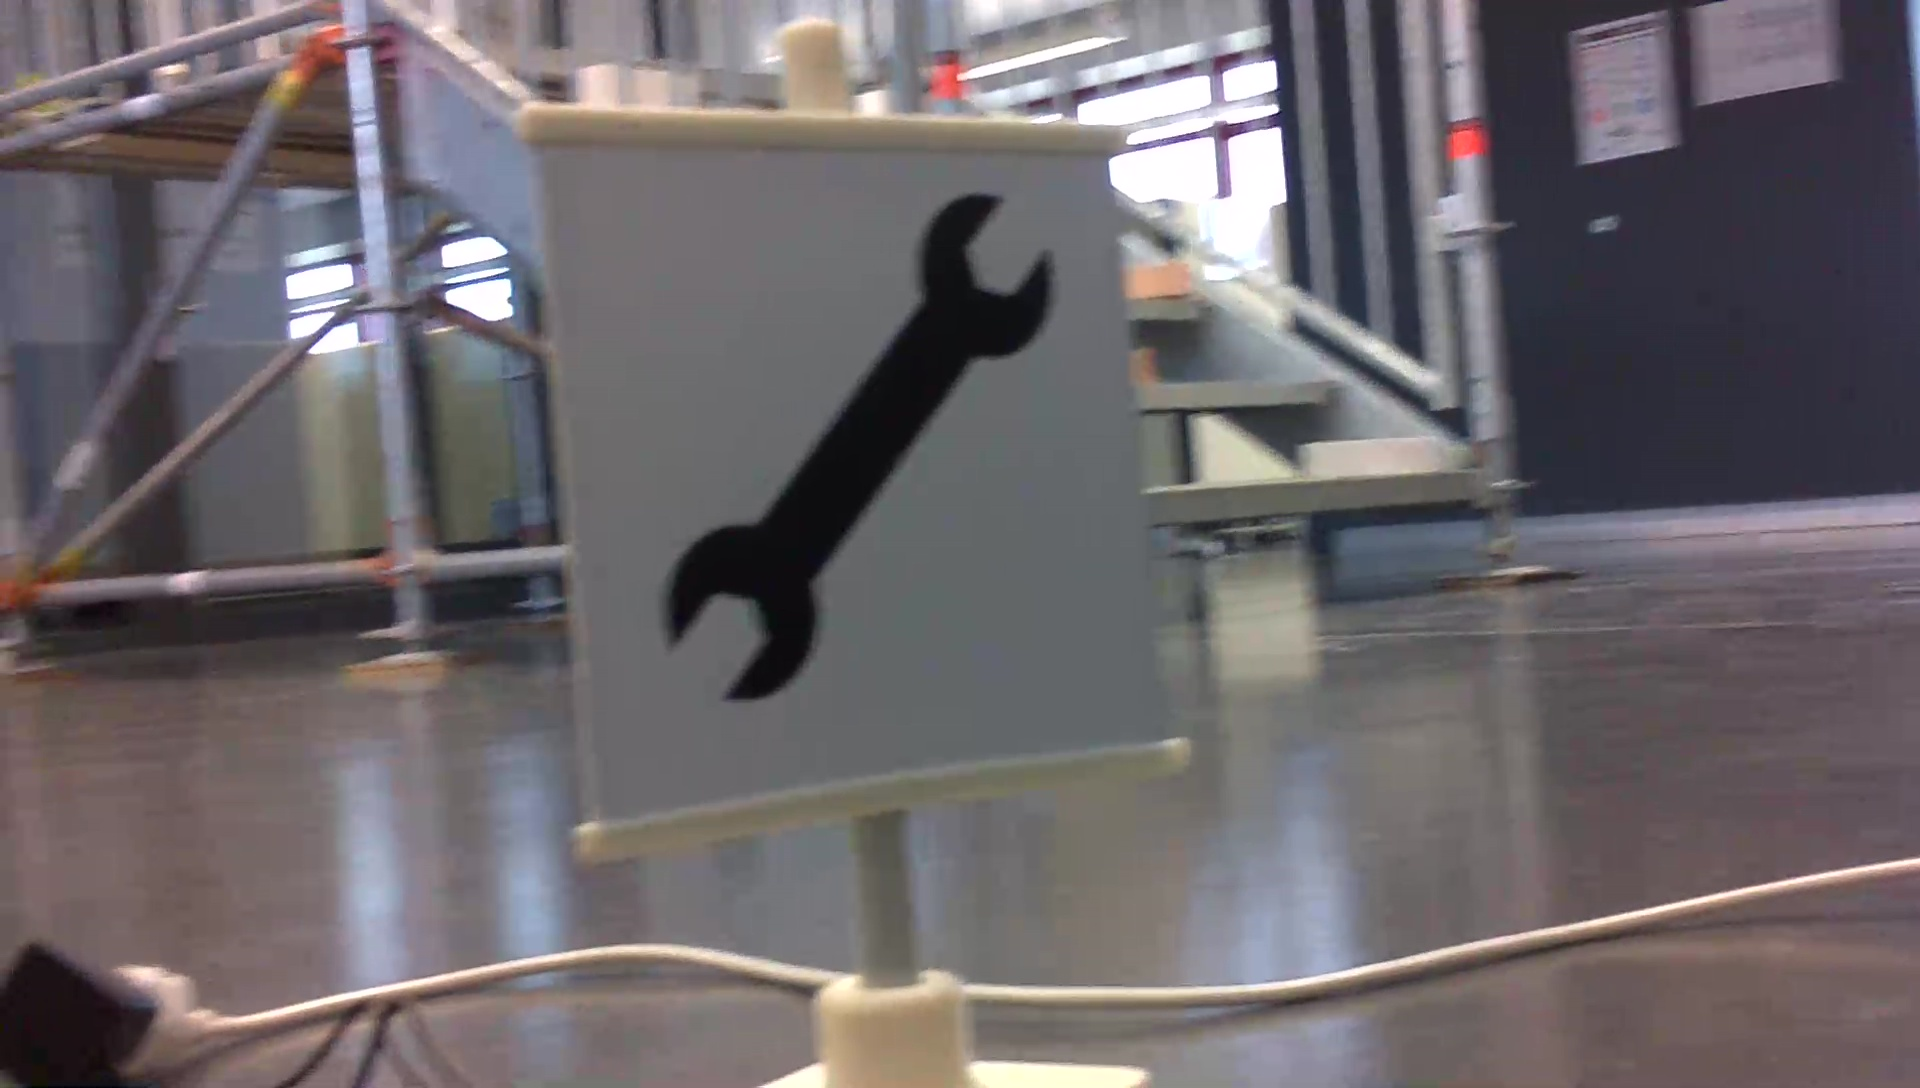brick: (1304, 437, 1437, 475), (1125, 262, 1189, 295)
edge: (1149, 469, 1476, 524), (1135, 375, 1337, 404)
wrench: (653, 185, 1069, 710)
